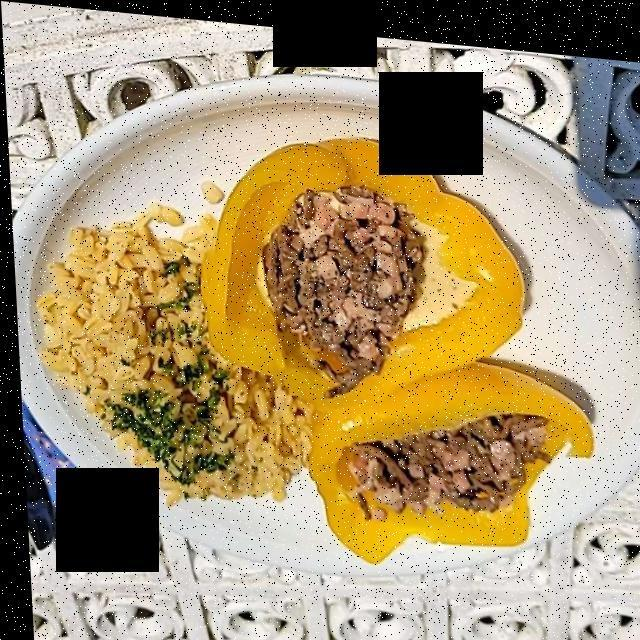bell-pepper: (206, 128, 593, 544)
ebly: (38, 203, 286, 493)
minced-meat: (257, 182, 553, 498)
